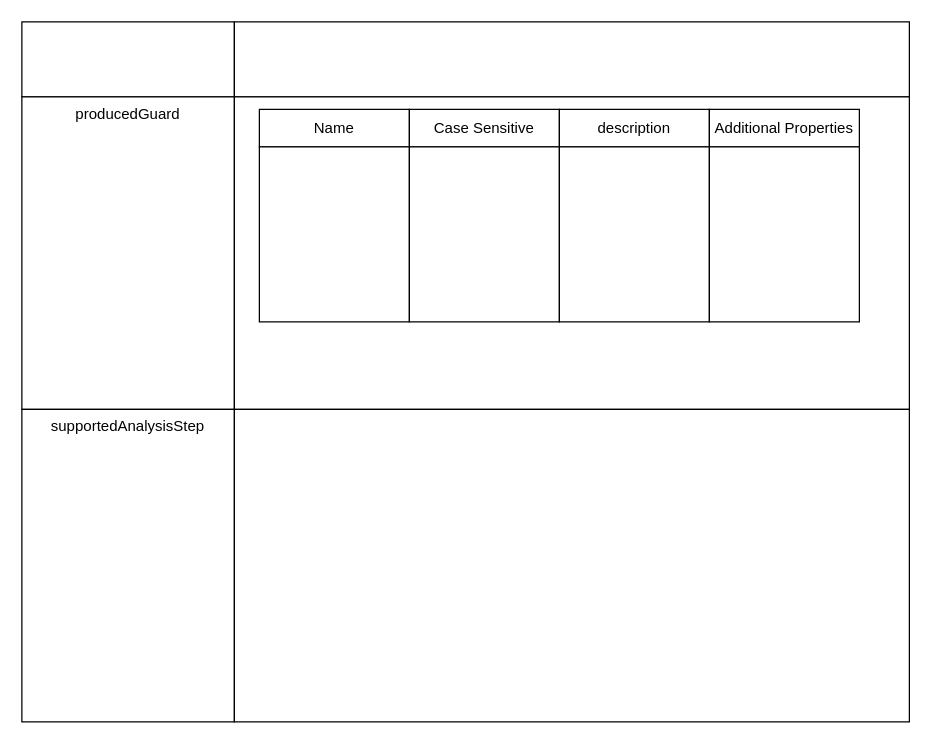
Image size: 931x744. Some labels were removed from this diagram. Here are the shapes that lost their labels. From the top down, the centre of each, then its label:
[127,59]: Property
[571,59]: Options
